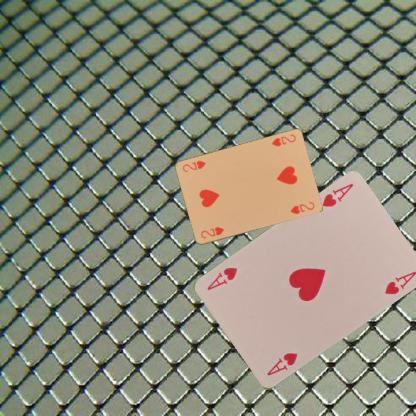2h: (198, 224, 226, 240), (269, 132, 297, 148)
Ah: (264, 350, 299, 378), (320, 181, 354, 209)
